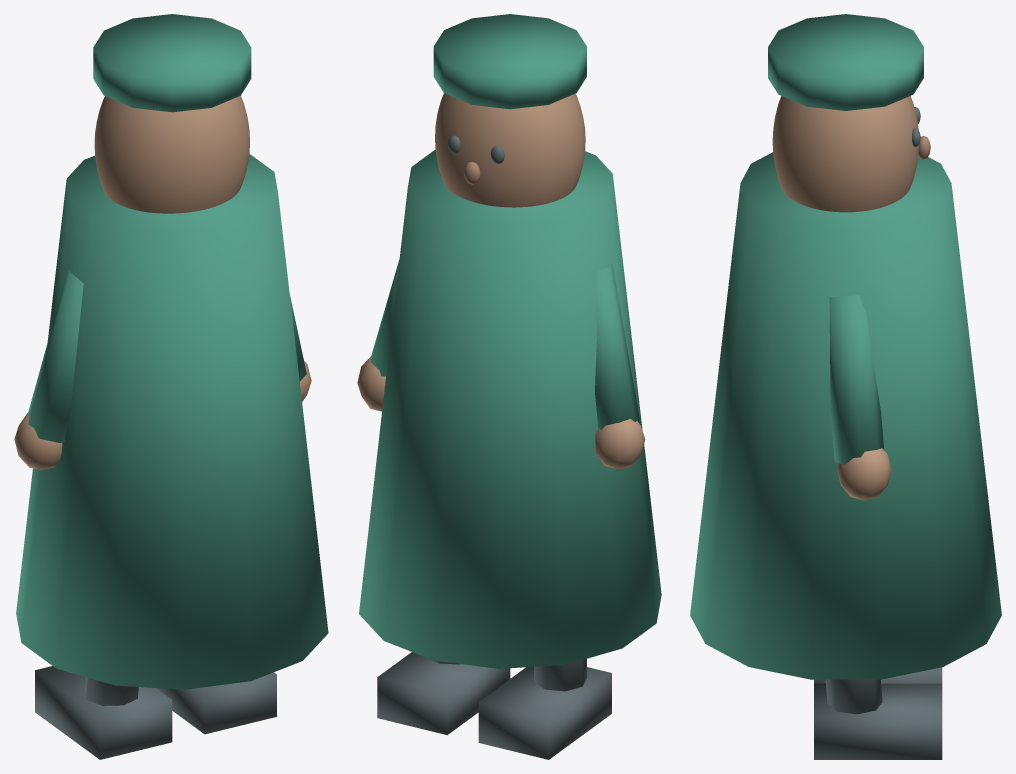
The model's file is Man.glb.
3 views of the same model, side by side, from view 1: azimuth 30°, elevation 25°; view 2: azimuth 150°, elevation 25°; view 3: azimuth 270°, elevation 25° (orthographic). The views are drawn at different scales.
Parts seen in each view (by area): view 1: man_mat_00_boubou_or_uniform, man_mat_01_head, man_mat_02_eye_-1; view 2: man_mat_00_boubou_or_uniform, man_mat_02_eye_-1, man_mat_01_head; view 3: man_mat_00_boubou_or_uniform, man_mat_01_head, man_mat_02_eye_-1.
Boxes of the visible parts, <box> form: man_mat_00_boubou_or_uniform: <box>16,14,328,689</box>; man_mat_01_head: <box>14,95,311,470</box>; man_mat_02_eye_-1: <box>35,666,276,759</box>; man_mat_00_boubou_or_uniform: <box>359,14,661,668</box>; man_mat_02_eye_-1: <box>377,135,611,759</box>; man_mat_01_head: <box>357,93,645,469</box>; man_mat_00_boubou_or_uniform: <box>690,14,1001,679</box>; man_mat_01_head: <box>772,96,918,500</box>; man_mat_02_eye_-1: <box>814,107,942,759</box>.
Size of the model in its own units: 0.72 by 1.61 by 0.68.
